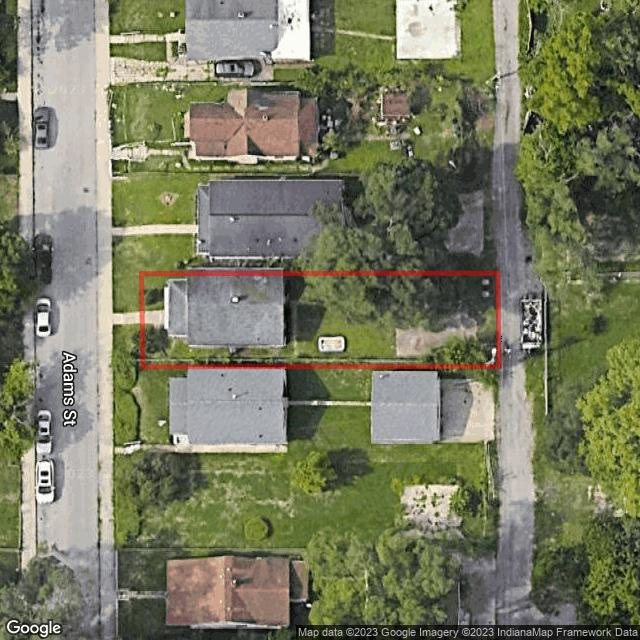Driveway: (145, 311, 164, 327)
Extra Driveway: (113, 311, 140, 325)
Extra Lawn: (112, 324, 140, 369), (112, 271, 140, 314)
House: (164, 276, 285, 346)
Other: (396, 312, 476, 357), (318, 336, 345, 352)
